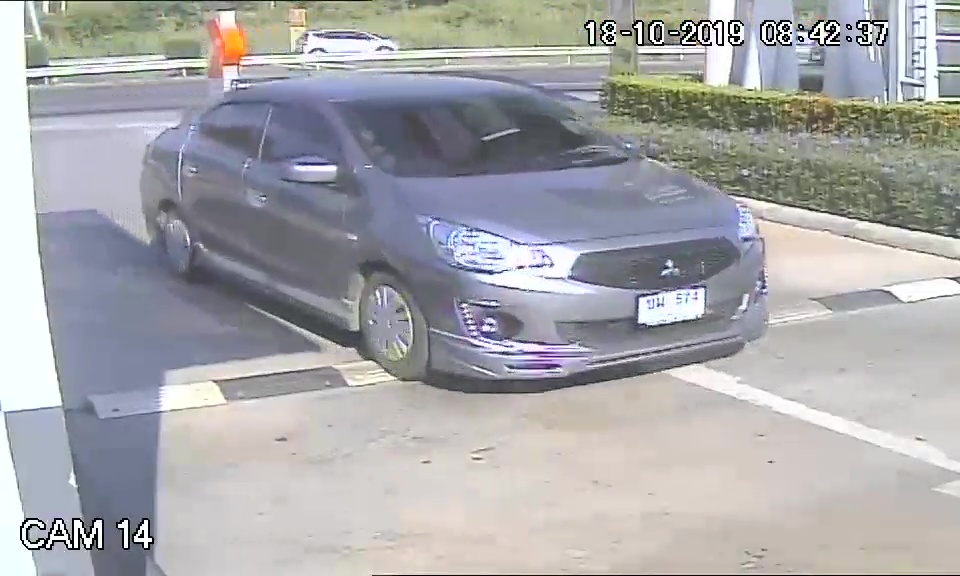sedan: (135, 67, 780, 394)
